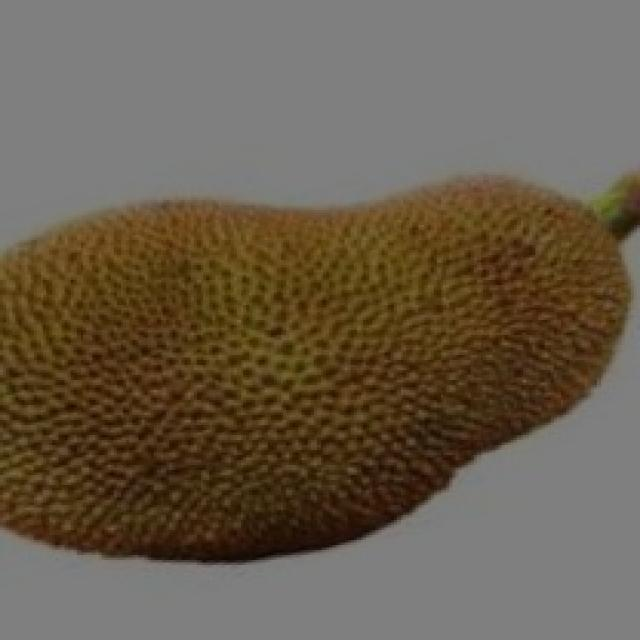Fruit: (3, 170, 422, 615), (252, 142, 640, 490)
